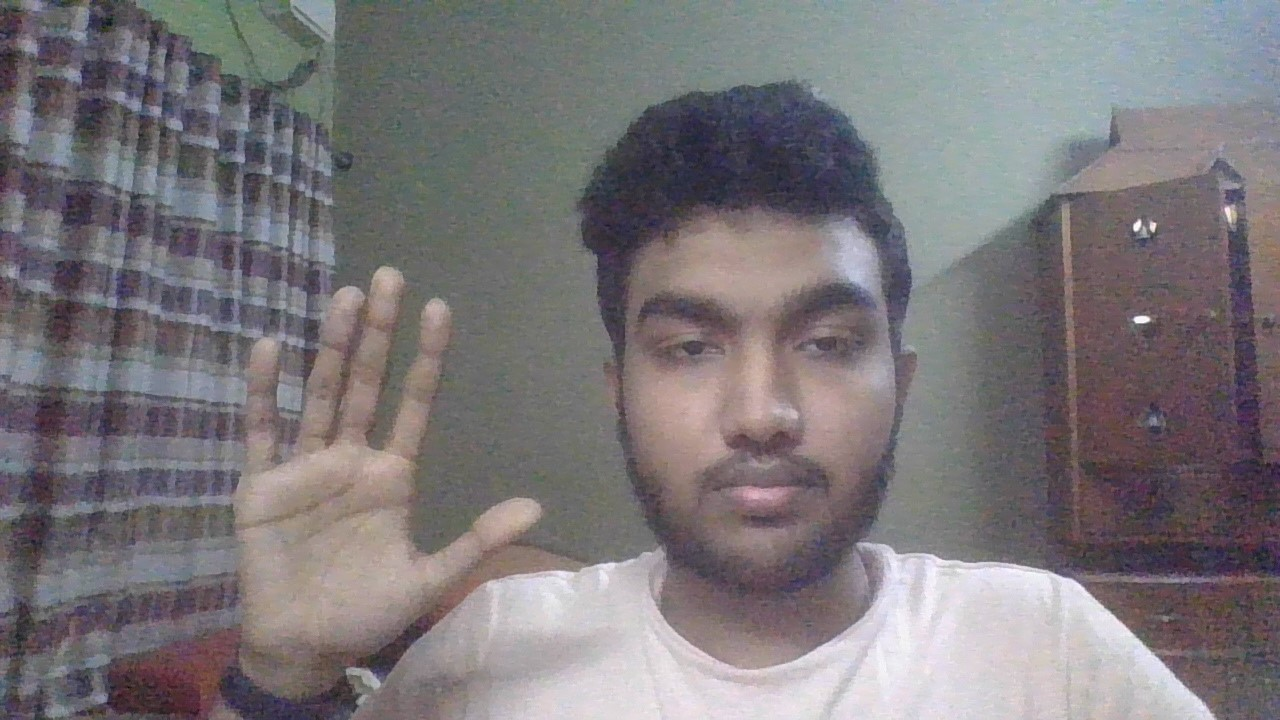Hello: (194, 253, 549, 720)
